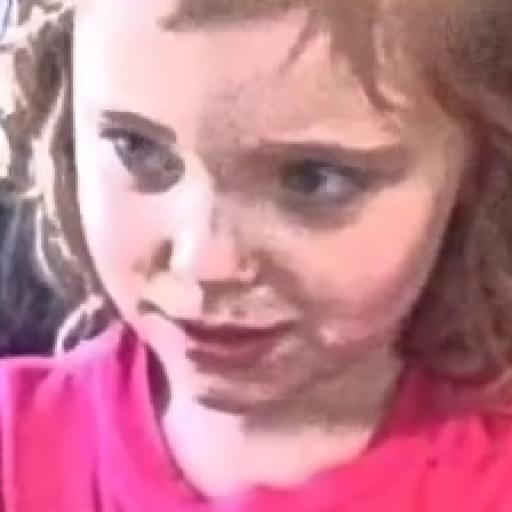Autism: (48, 4, 512, 467)
